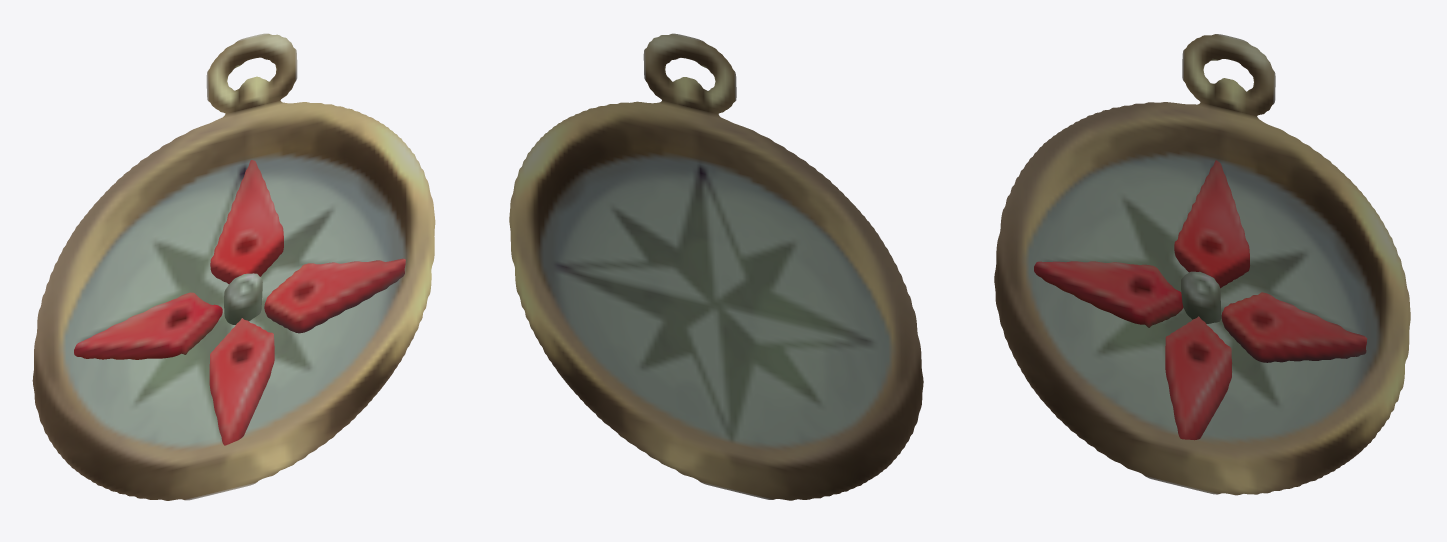
Rendered from Compass.FBX.
The picture shows the model from 3 angles, left to right: view 1: azimuth 30°, elevation 25°; view 2: azimuth 150°, elevation 25°; view 3: azimuth 330°, elevation 25°; orthographic projection. The views are drawn at different scales.
Visible parts, largest first — view 1: Compass; view 2: Compass; view 3: Compass.
Part boxes in pixels (<box>): Compass: <box>32,33,435,500</box>; Compass: <box>509,33,923,500</box>; Compass: <box>994,34,1410,495</box>.
Bounding box in the file's own units: 44.34 × 1.94 × 44.23.
